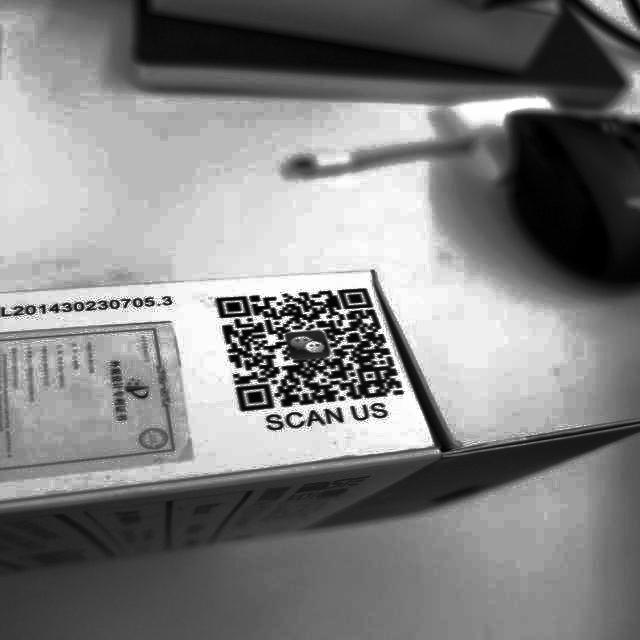qr_code: (206, 277, 417, 418)
